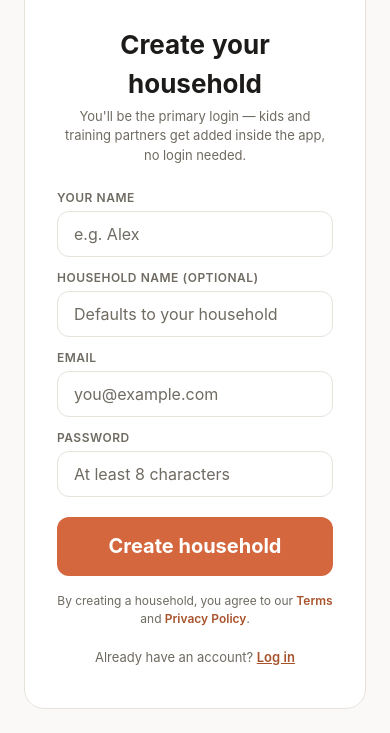
it: RegisterPage validation › clears a field error once the user types
(page scrolled)
Click the button "Create household".
click(195, 547)  # box [57,517,333,576]
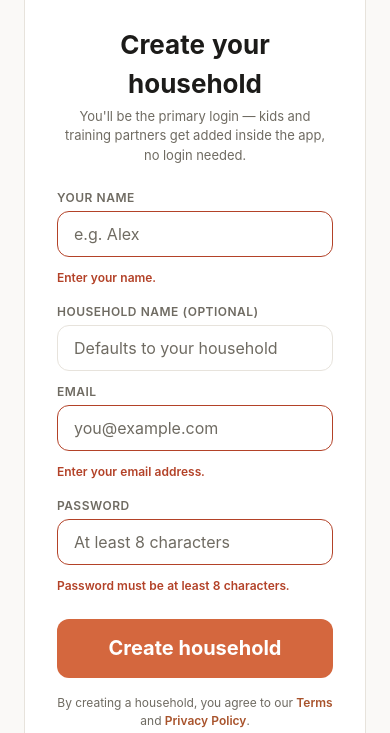
Now the text "Enter your name." is shown, box [57,270,156,285]
Type "Alex" into the field with placeholder "e.g. Alex".
click(195, 234); type("Alex")  # box [57,211,333,257]
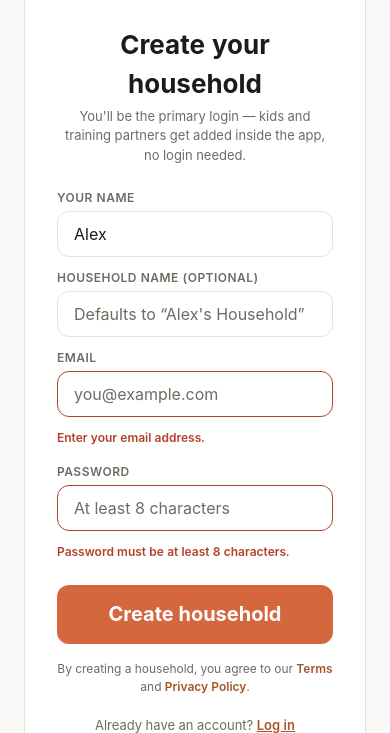
Now the text "Enter your name." is gone
